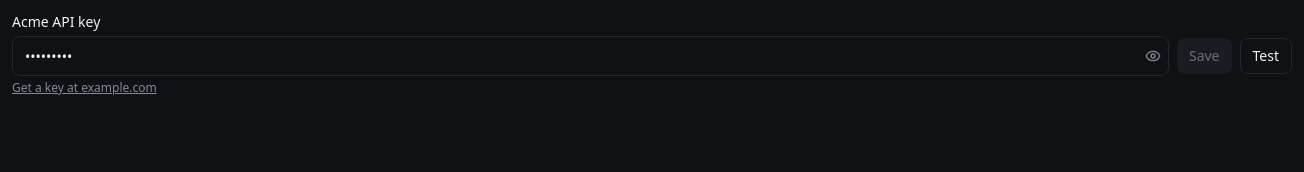
Scenario: ApiKeyField › shows and hides the key
Click the button named "Show Acme API key".
click(1153, 56)  # box [1145, 36, 1161, 76]
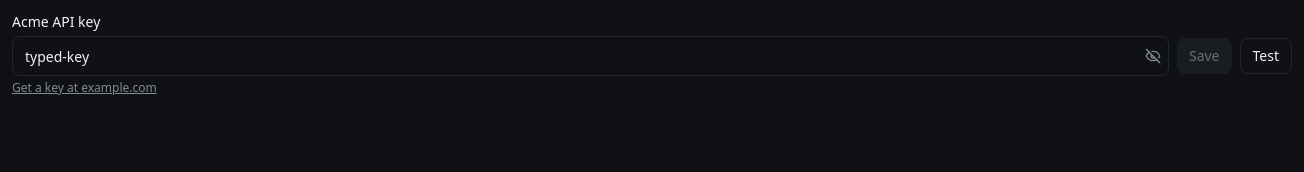
expect the field labelled "Acme API key" shows its text: met, box [12, 36, 1169, 76]
Click the button named "Show Acme API key".
click(1153, 56)  # box [1145, 36, 1161, 76]
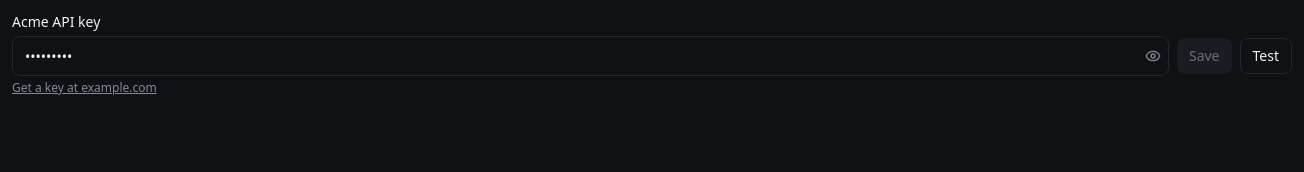
expect the password field labelled "Acme API key" hides its text: met, box [12, 36, 1169, 76]
